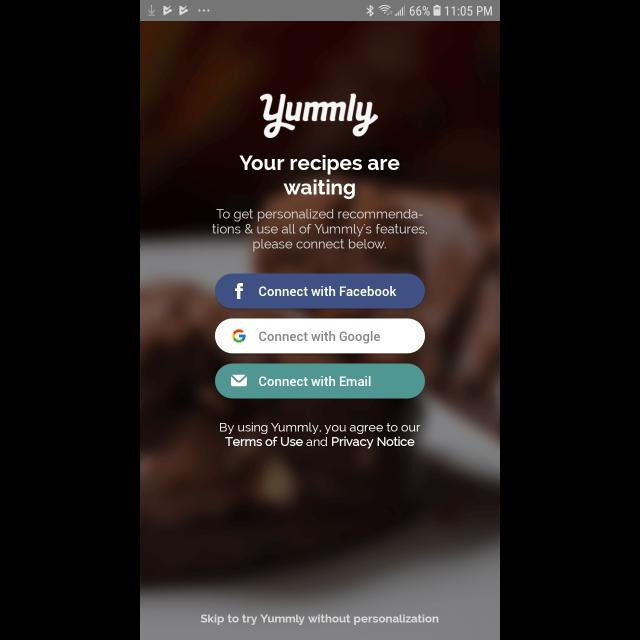backgroundimage: (140, 22, 500, 640)
image: (260, 94, 378, 138)
text: (212, 208, 428, 252), (240, 154, 400, 200), (220, 422, 420, 450), (201, 614, 439, 626)
textbutton: (215, 318, 425, 354), (215, 273, 425, 309), (215, 364, 425, 398)
uppertaskbar: (140, 1, 500, 22)
